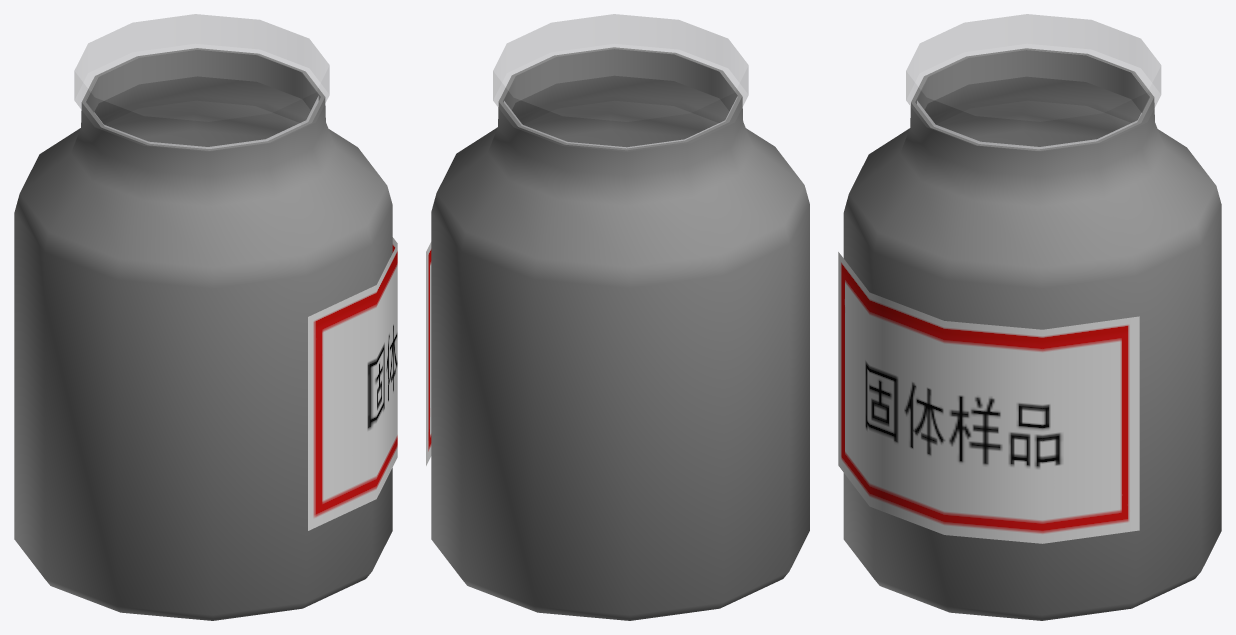
File: SM_固体样品.FBX
The picture shows the model from 3 angles, left to right: view 1: azimuth 30°, elevation 25°; view 2: azimuth 150°, elevation 25°; view 3: azimuth 270°, elevation 25°; orthographic projection.
Parts seen in each view (by area): view 1: SM_固体样品_瓶体, SM_固体样品_盖子; view 2: SM_固体样品_瓶体, SM_固体样品_盖子; view 3: SM_固体样品_瓶体, SM_固体样品_盖子.
Part boxes in pixels (x1,y1,x2,y2): SM_固体样品_瓶体: (14,48,397,620); SM_固体样品_盖子: (74,14,329,151); SM_固体样品_瓶体: (426,47,809,620); SM_固体样品_盖子: (493,14,748,151); SM_固体样品_瓶体: (838,48,1221,620); SM_固体样品_盖子: (906,14,1160,151).
Bounding box in the file's own units: 68.7 × 94.69 × 68.74.
